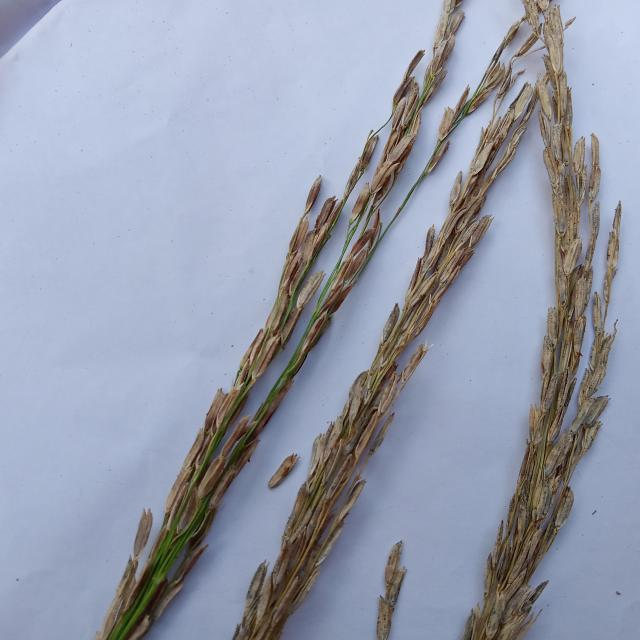Neck_Blast: (135, 81, 435, 640), (238, 100, 527, 637), (103, 191, 337, 636), (471, 7, 618, 639)
